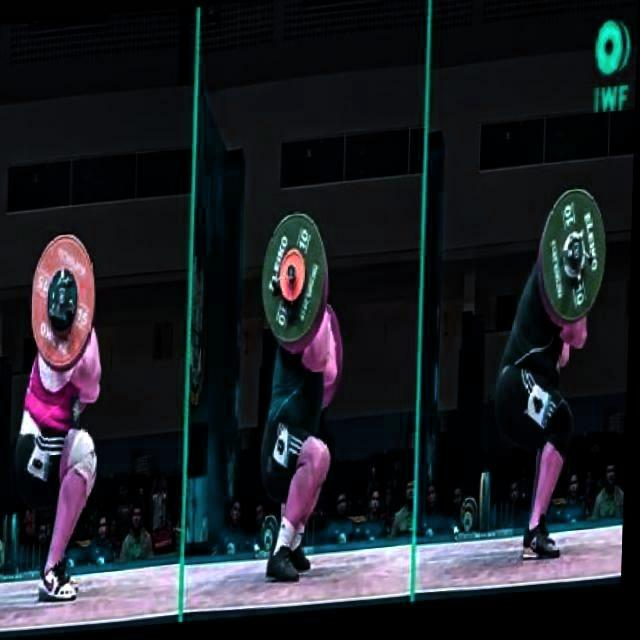barbell: (25, 227, 103, 375), (535, 192, 612, 340), (258, 212, 335, 357)
